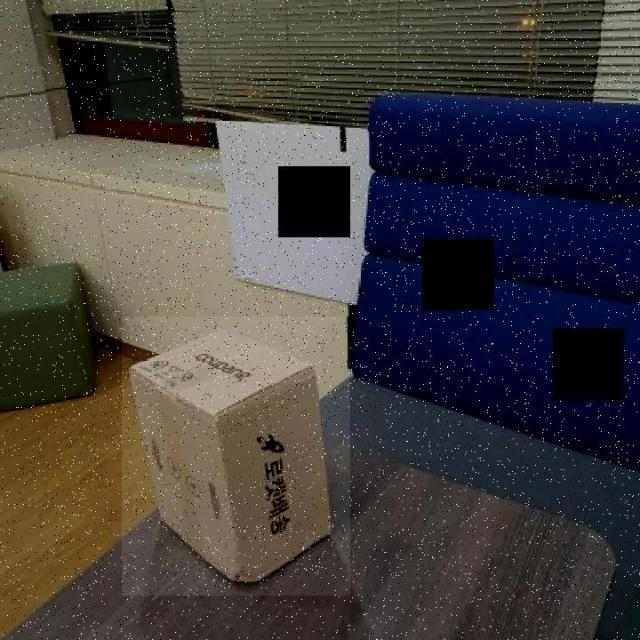box: (122, 316, 352, 596)
